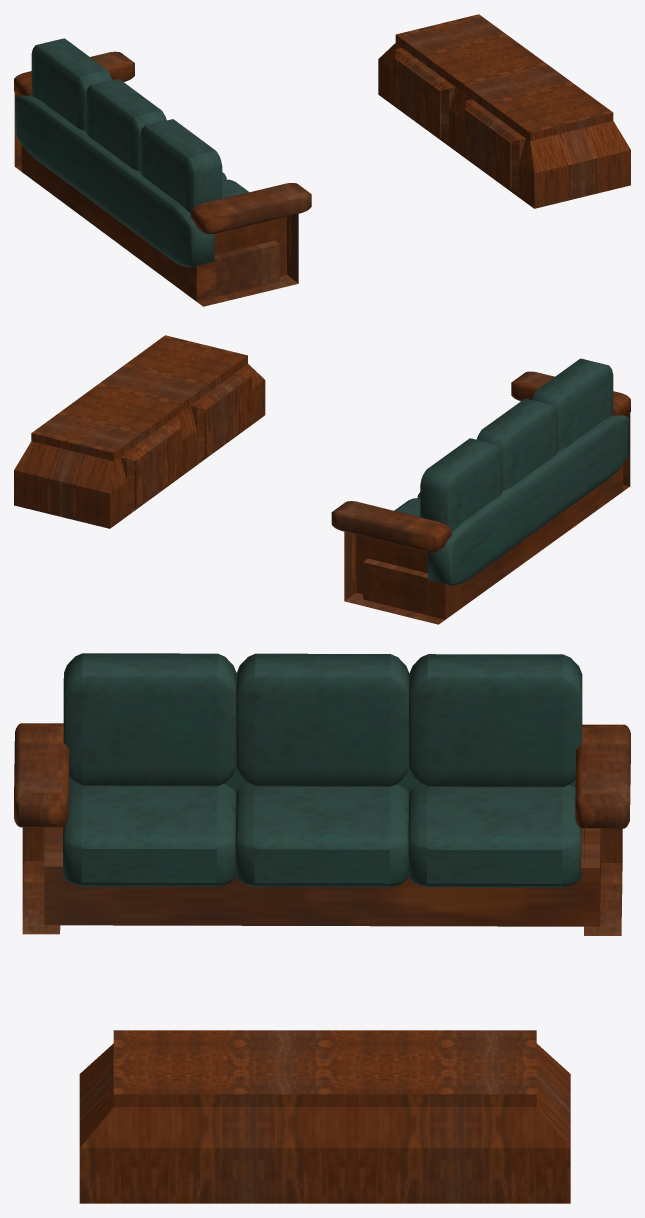
Rendered from Couch&tvStand.fbx.
The picture shows the model from 3 angles, top to bottom: view 1: azimuth 30°, elevation 25°; view 2: azimuth 150°, elevation 25°; view 3: azimuth 270°, elevation 25°; orthographic projection. The views are drawn at different scales.
Parts seen in each view (by area): view 1: Cube.043, Cube.013; view 2: Cube.043, Cube.013; view 3: Cube.043, Cube.013.
Boxes of the visible parts, left/top/right/bottom form: Cube.043: left=14, top=38, right=311, bottom=306; Cube.013: left=378, top=14, right=630, bottom=208; Cube.043: left=331, top=358, right=630, bottom=624; Cube.013: left=14, top=335, right=265, bottom=528; Cube.043: left=14, top=653, right=630, bottom=935; Cube.013: left=79, top=1030, right=570, bottom=1203.
Bounding box in the file's own units: 2678 × 763 × 2011.
Materials: 2 (2 with a texture image).
